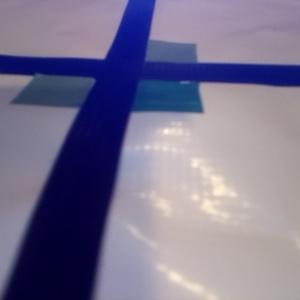bottom_left: (12, 59, 133, 108)
bottom_right: (95, 62, 203, 112)
top_right: (113, 40, 196, 78)
